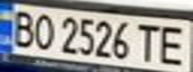2: (54, 12, 81, 55), (93, 16, 115, 60)
5: (75, 15, 96, 57)
6: (112, 18, 136, 61)
B: (6, 7, 39, 48)
E: (154, 21, 190, 66)
O: (30, 10, 57, 52)
T: (133, 20, 163, 63)
